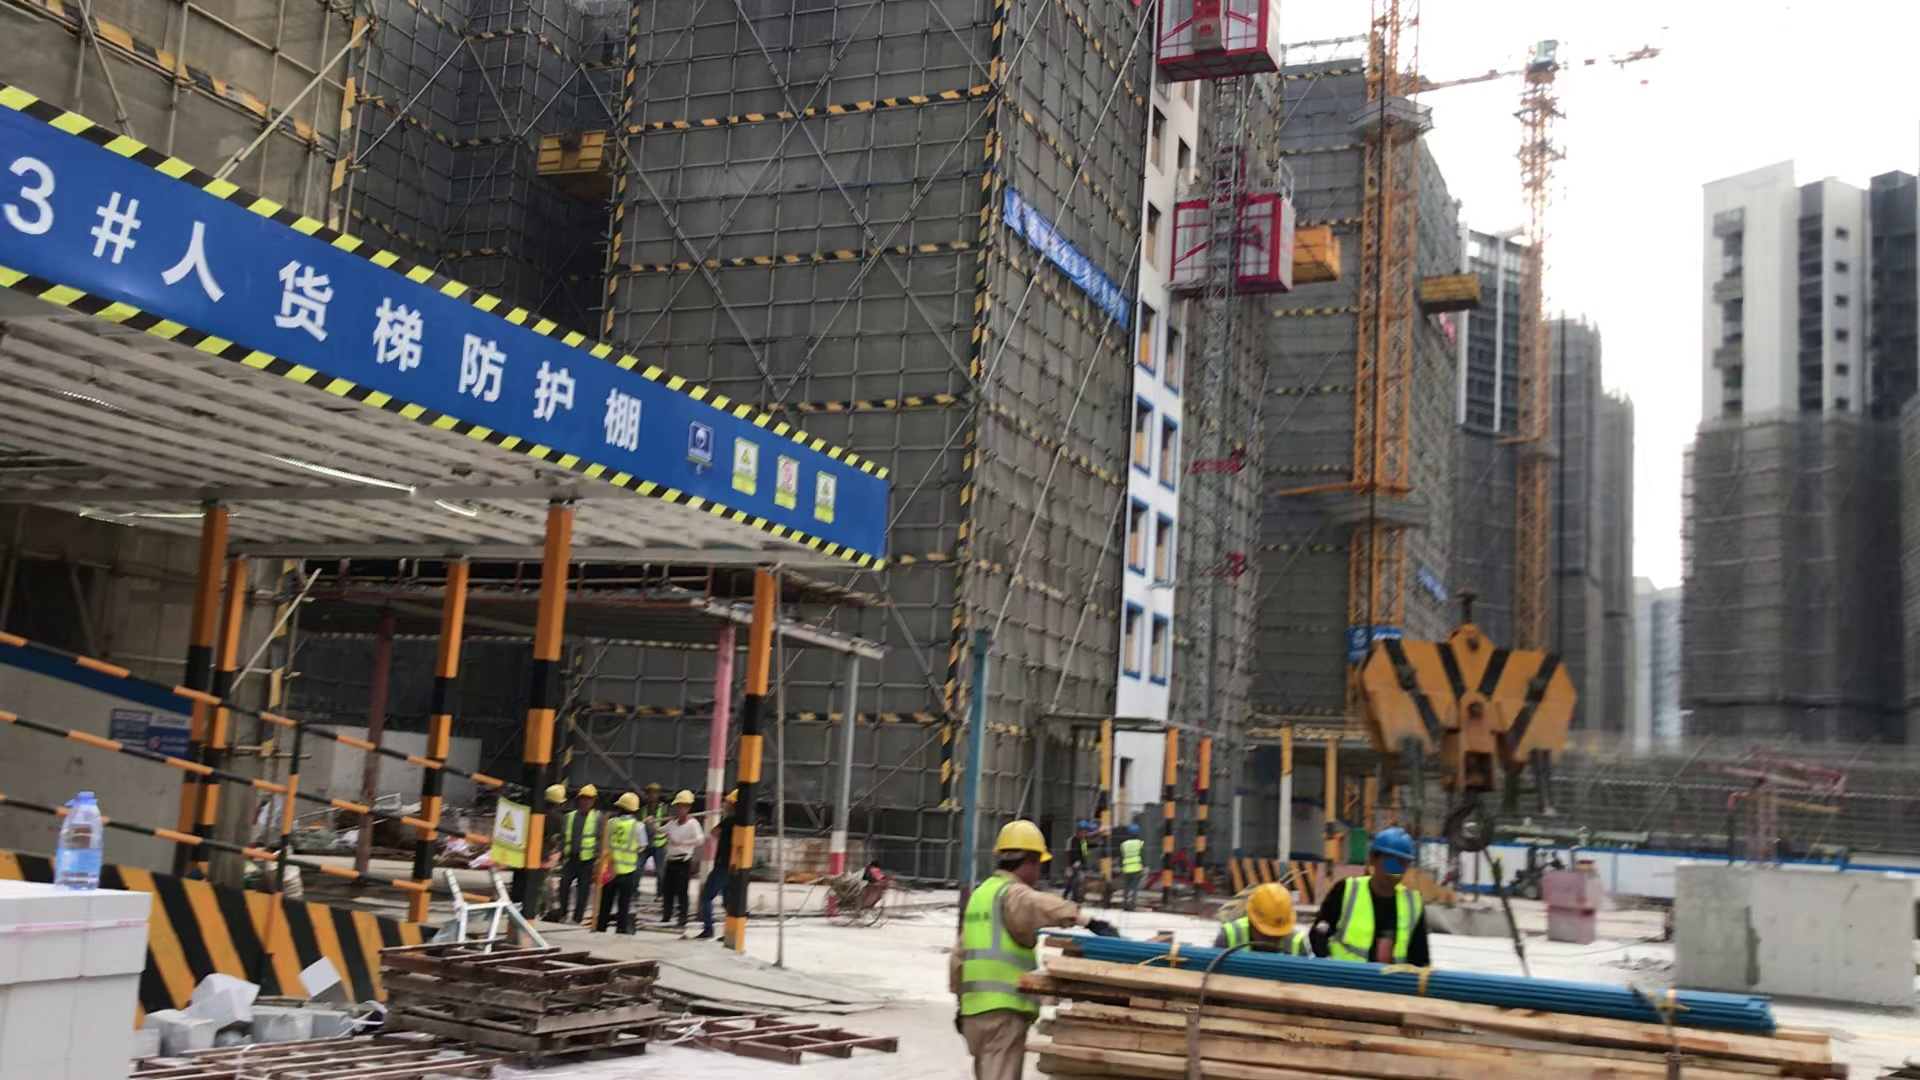brick: (1, 878, 151, 1080)
handcart: (806, 866, 911, 925), (1069, 868, 1115, 907)
helmet: (1240, 884, 1303, 938), (990, 817, 1054, 865), (1373, 824, 1423, 867), (542, 784, 568, 805), (615, 791, 642, 810), (669, 788, 695, 804), (576, 782, 599, 798), (1124, 823, 1144, 835)
hook: (1351, 605, 1582, 855)
person: (956, 820, 1067, 1080), (1321, 829, 1439, 977), (642, 779, 698, 937), (1216, 875, 1314, 960), (543, 782, 597, 919), (696, 787, 740, 950), (602, 788, 643, 936), (1116, 816, 1148, 910), (1067, 816, 1097, 868)
slogan: (991, 185, 1129, 336), (686, 416, 850, 523), (492, 797, 532, 871)
vest: (964, 873, 1037, 1021), (1339, 875, 1422, 961), (604, 818, 640, 875), (564, 807, 595, 861), (1121, 841, 1146, 874)
wood: (1036, 941, 1784, 1080)
